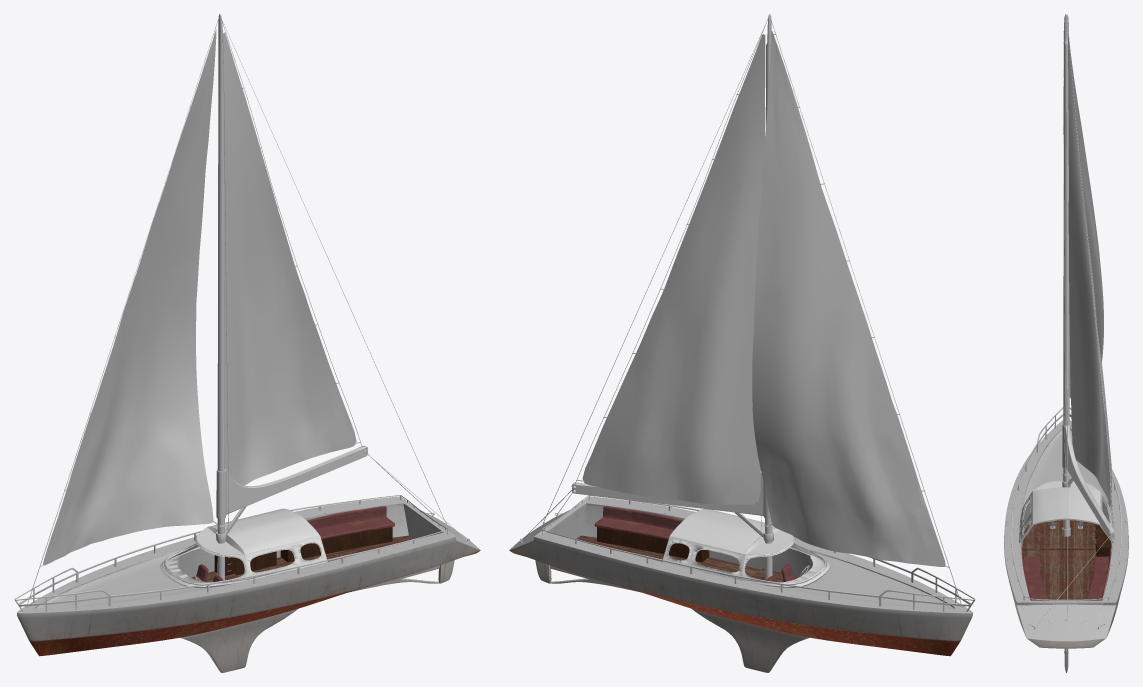
The model's file is Sailboat_1.fbx.
The picture shows the model from 3 angles, left to right: view 1: azimuth 30°, elevation 25°; view 2: azimuth 150°, elevation 25°; view 3: azimuth 270°, elevation 25°; orthographic projection. The views are drawn at different scales.
Visible parts, largest first — view 1: Sails2_Low.004, MainBody_Low.003, Cockpit_Low.004, mast_Low.004, Brace_Low.004, LowerTale_Low.003, Cube.084, CouchBottom_Low.002, CouchBack_Low.003, CoouchBase_Low.003, Closet_Low.006; view 2: Sails2_Low.004, MainBody_Low.003, Cockpit_Low.004, LowerTale_Low.003, Cube.084, Brace_Low.004, CouchBottom_Low.002, CouchBack_Low.003, CoouchBase_Low.003, Cylinder.067, mast_Low.004; view 3: MainBody_Low.003, Sails2_Low.004, Cockpit_Low.004, mast_Low.004, CoouchBase_Low.003, Brace_Low.004, Cube.084, Cylinder.068, Cylinder.074, Closet_Low.006, Cylinder.069, CouchBack_Low.003 (+1 smaller).
Boxes of the visible parts, x1,y1,x2,y2 form: Sails2_Low.004: (43,29,356,565); MainBody_Low.003: (17,496,480,656); Cockpit_Low.004: (160,508,327,587); mast_Low.004: (217,14,224,580); Brace_Low.004: (216,445,367,519); LowerTale_Low.003: (180,609,297,672); Cube.084: (14,495,447,611); CouchBottom_Low.002: (280,527,392,562); CouchBack_Low.003: (307,506,426,536); CoouchBase_Low.003: (316,517,394,539); Closet_Low.006: (214,551,276,575); Sails2_Low.004: (582,31,945,566); MainBody_Low.003: (509,496,972,656); Cockpit_Low.004: (662,509,829,587); LowerTale_Low.003: (692,609,809,672); Cube.084: (542,495,975,611); Brace_Low.004: (572,473,770,519); CouchBottom_Low.002: (597,527,709,562); CouchBack_Low.003: (563,506,682,536); CoouchBase_Low.003: (594,517,673,539); Cylinder.067: (770,18,962,607); mast_Low.004: (765,14,772,580); MainBody_Low.003: (1004,420,1128,648); Sails2_Low.004: (1068,34,1112,520); Cockpit_Low.004: (1019,481,1113,542); mast_Low.004: (1063,14,1069,529); CoouchBase_Low.003: (1023,556,1109,600); Brace_Low.004: (1062,423,1114,539); Cube.084: (1011,407,1121,601); Cylinder.068: (1065,18,1067,621); Cylinder.074: (1067,18,1114,531); Closet_Low.006: (1095,524,1111,556); Cylinder.069: (1063,20,1067,481); CouchBack_Low.003: (1021,547,1111,600).
Bounding box in the file's own units: 1597 × 2240 × 428.
